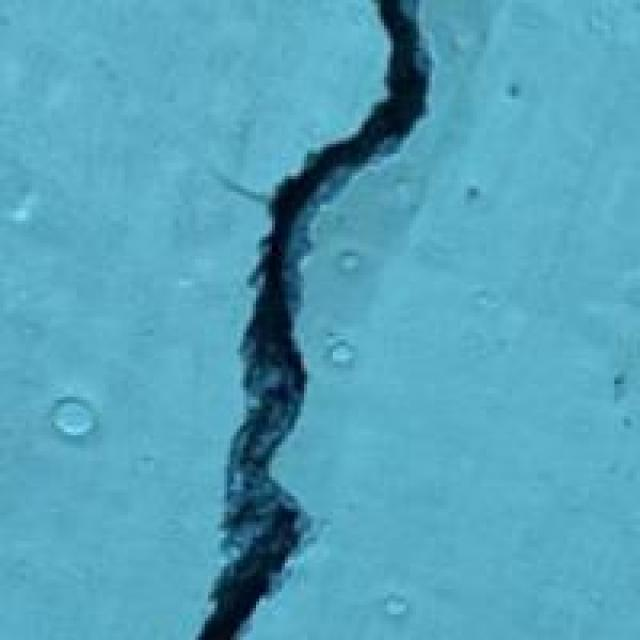Crack: (157, 3, 451, 637)
